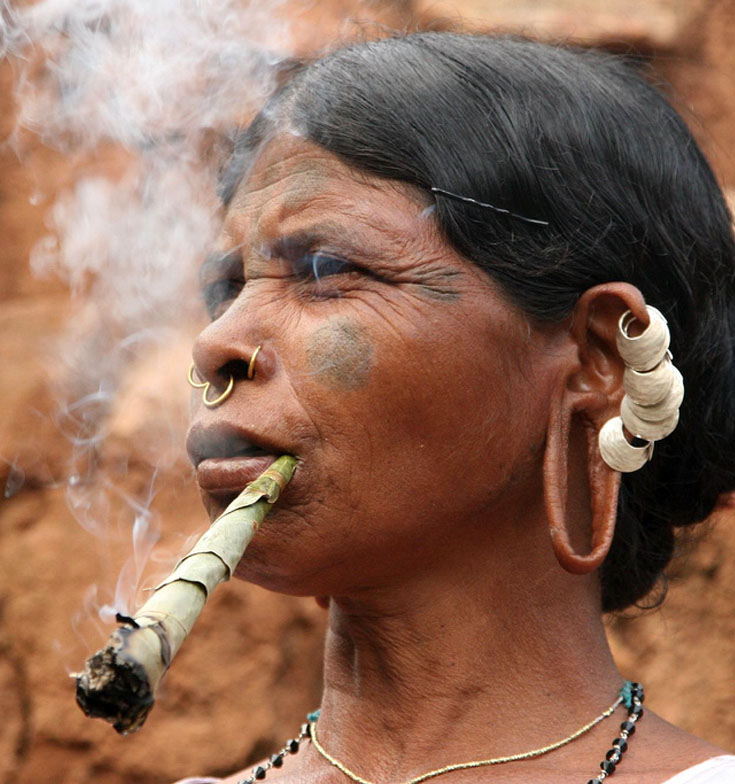cigarette: (70, 430, 301, 730)
